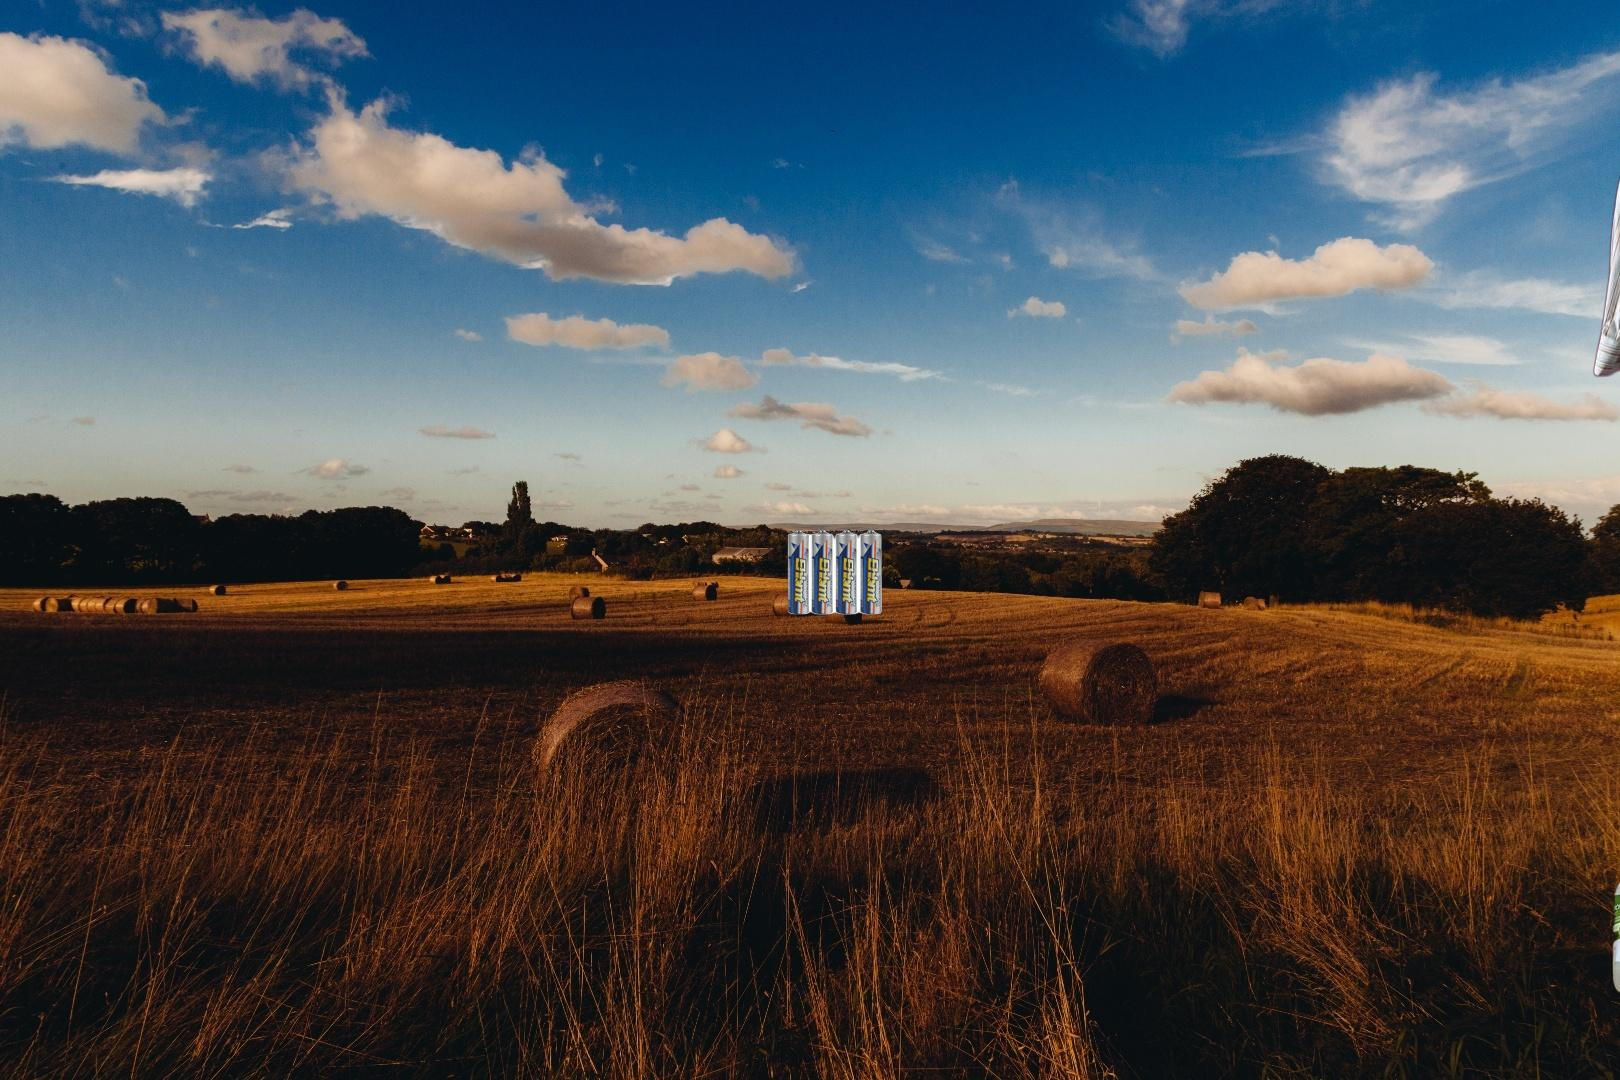battery: (785, 527, 885, 618)
clothes: (1590, 30, 1620, 450)
plastic-bottles: (1607, 471, 1620, 1019)
